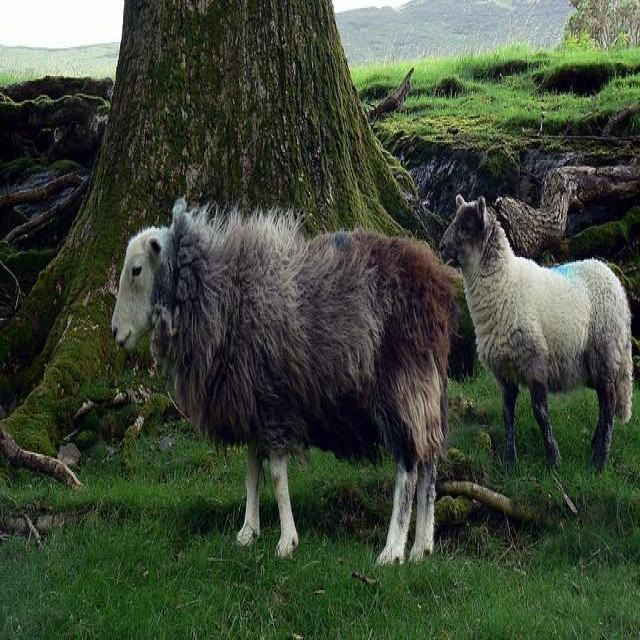Sheep: (113, 196, 479, 572), (439, 194, 632, 472)
